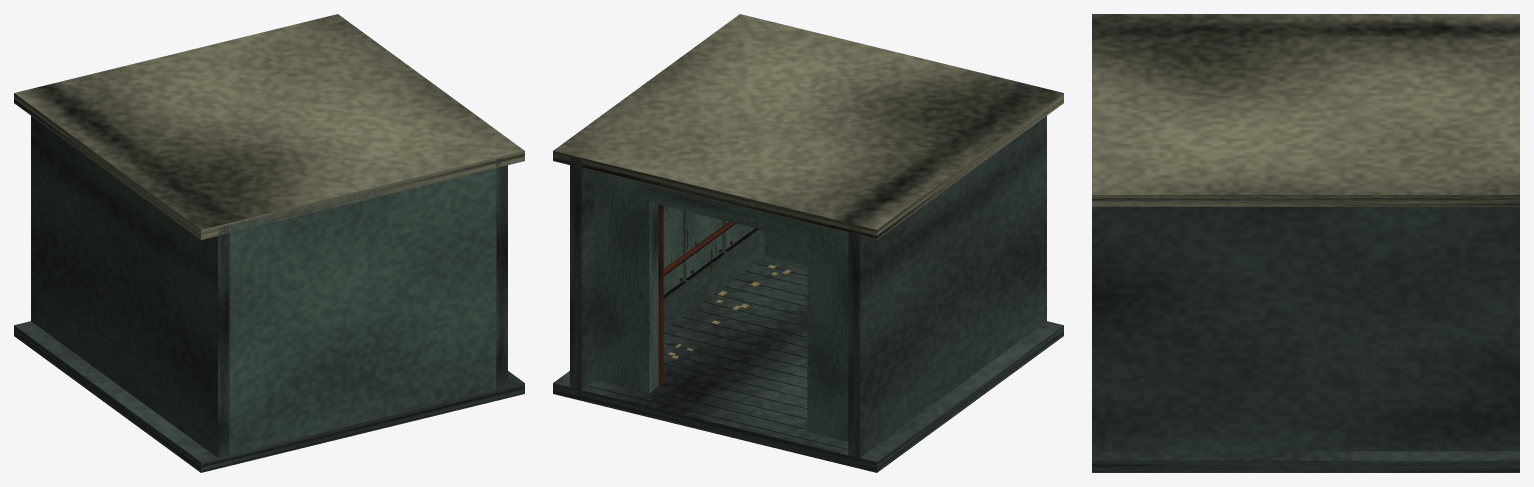
File: elevator-interior.glb
The picture shows the model from 3 angles, left to right: view 1: azimuth 30°, elevation 25°; view 2: azimuth 150°, elevation 25°; view 3: azimuth 270°, elevation 25°; orthographic projection. The views are drawn at different scales.
Visible parts, largest first — view 1: elevator-static-asylum plaster, elevator-static-asylum paint, elevator-static-asylum metal; view 2: elevator-static-asylum metal, elevator-static-asylum plaster, elevator-static-asylum paint, elevator-static-asylum dark, elevator-static-asylum rust; view 3: elevator-static-asylum metal, elevator-static-asylum plaster.
Part boxes in pixels (x1,y1,x2,y2): elevator-static-asylum plaster: [14, 14, 524, 239]; elevator-static-asylum paint: [229, 160, 496, 454]; elevator-static-asylum metal: [14, 116, 524, 472]; elevator-static-asylum metal: [553, 116, 1063, 472]; elevator-static-asylum plaster: [553, 14, 1063, 239]; elevator-static-asylum paint: [595, 171, 848, 441]; elevator-static-asylum dark: [588, 228, 848, 449]; elevator-static-asylum rust: [658, 204, 735, 386]; elevator-static-asylum metal: [1092, 206, 1519, 472]; elevator-static-asylum plaster: [1092, 14, 1519, 206].
Size of the model in its own units: 5 by 3.58 by 5.
8 materials, 7 textured.
